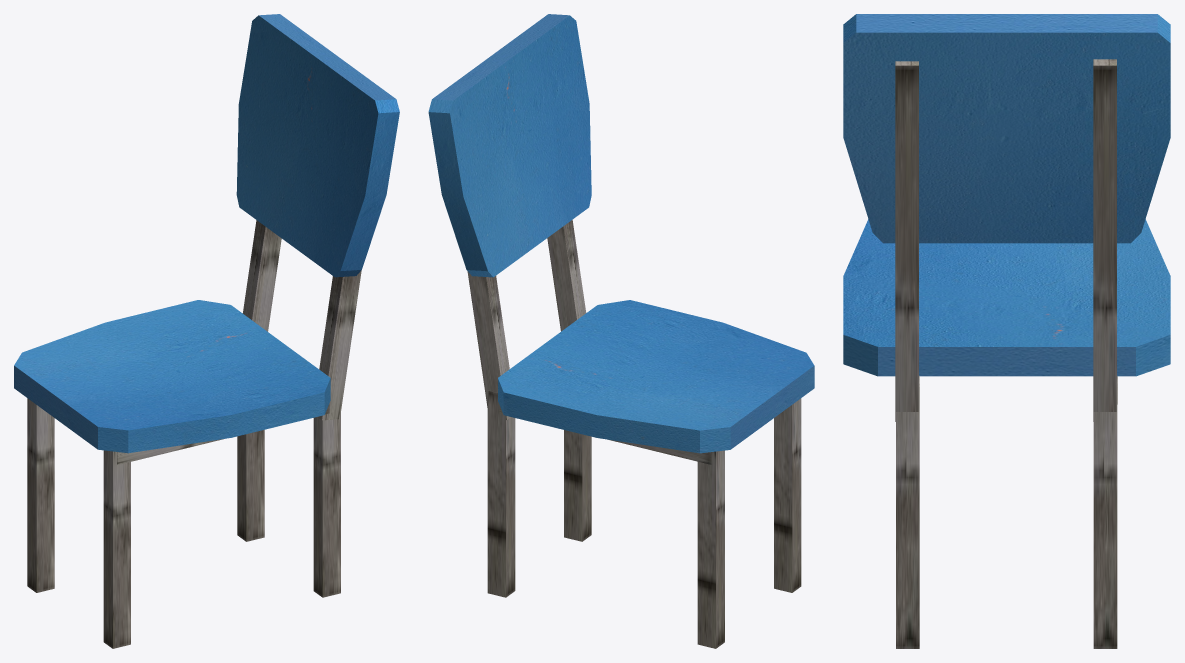
The model's file is cadeira cozinha.fbx.
The picture shows the model from 3 angles, left to right: view 1: azimuth 30°, elevation 25°; view 2: azimuth 150°, elevation 25°; view 3: azimuth 270°, elevation 25°; orthographic projection. The views are drawn at different scales.
Parts seen in each view (by area): view 1: pCube543, pCube545, pCube551, pCube553, pCube550, pCube547, pCube552, pCube546, pCube548; view 2: pCube543, pCube545, pCube552, pCube553, pCube551, pCube546, pCube550, pCube547, pCube549; view 3: pCube545, pCube543, pCube546, pCube547, pCube552, pCube550.
Part boxes in pixels (box(x1,y1,x2,y2)): pCube543: box(14, 300, 330, 453); pCube545: box(236, 14, 399, 277); pCube551: box(103, 450, 130, 648); pCube553: box(27, 398, 54, 592); pCube550: box(313, 413, 340, 597); pCube547: box(317, 270, 361, 420); pCube552: box(237, 430, 264, 541); pCube546: box(242, 220, 281, 331); pCube548: box(117, 403, 329, 464); pCube543: box(498, 300, 814, 453); pCube545: box(428, 14, 591, 277); pCube552: box(487, 390, 515, 597); pCube553: box(697, 450, 724, 648); pCube551: box(774, 398, 801, 592); pCube546: box(467, 271, 510, 419); pCube550: box(564, 430, 591, 541); pCube547: box(547, 220, 586, 331); pCube549: box(499, 405, 711, 464); pCube545: box(843, 14, 1170, 243); pCube543: box(843, 219, 1170, 376); pCube546: box(1093, 59, 1116, 421); pCube547: box(895, 61, 918, 421); pCube552: box(1093, 376, 1117, 648); pCube550: box(896, 375, 919, 648).
Bounding box in the file's own units: 2.99 × 5 × 2.29.
